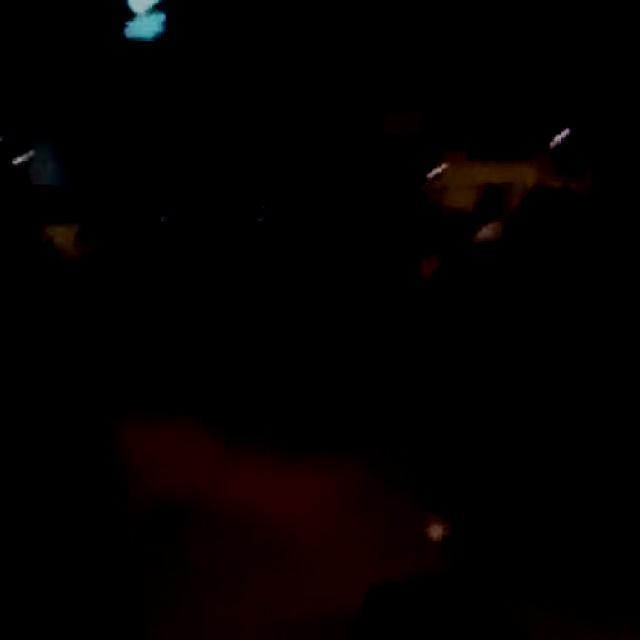fight: (408, 180, 534, 546)
